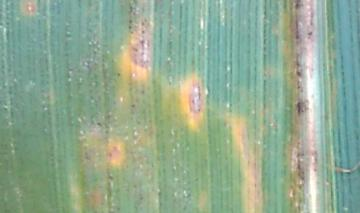tarspot: (294, 100, 302, 115), (106, 172, 115, 181), (293, 1, 301, 10), (94, 121, 104, 127), (128, 102, 136, 109), (115, 71, 122, 78), (305, 29, 312, 36)
